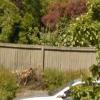Tree: (10, 3, 100, 47)
